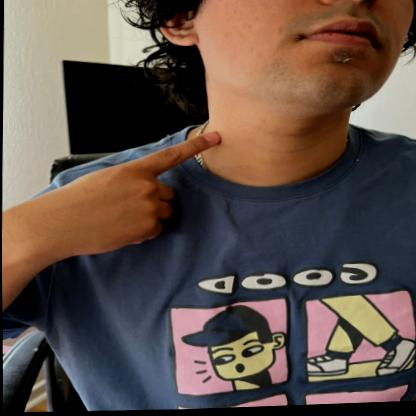Q: (31, 112, 272, 270)
